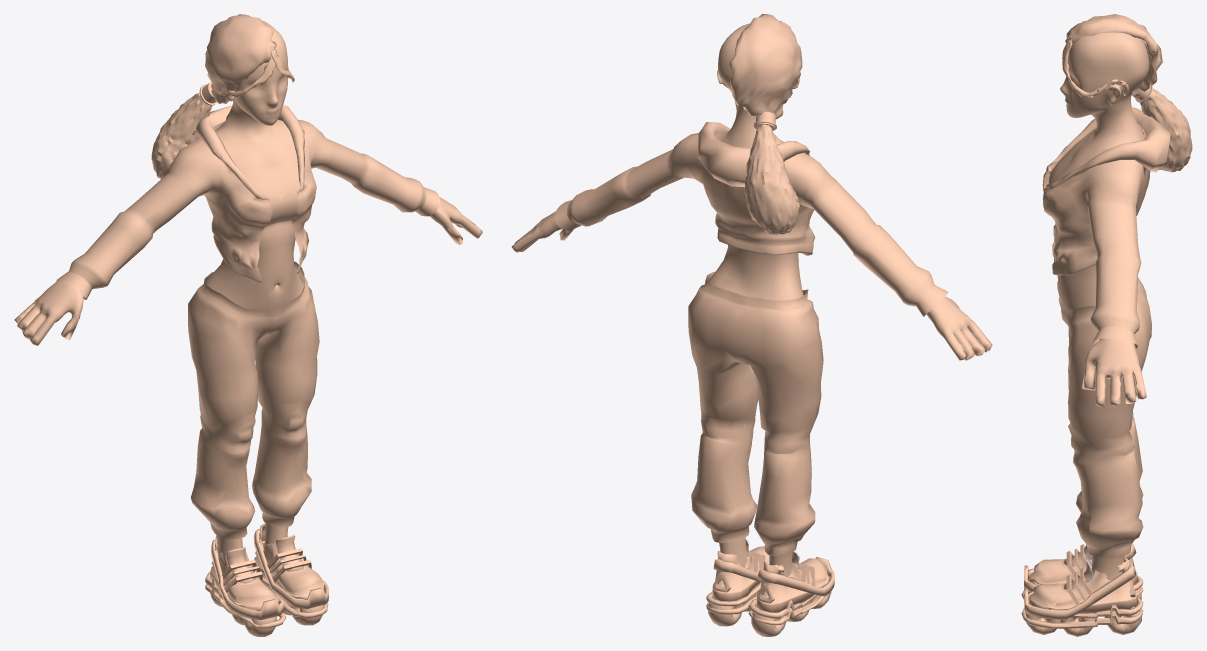
The model's file is JSRFTestFig.fbx.
The picture shows the model from 3 angles, left to right: view 1: azimuth 30°, elevation 25°; view 2: azimuth 150°, elevation 25°; view 3: azimuth 270°, elevation 25°; orthographic projection. The views are drawn at different scales.
Visible parts, largest first — view 1: Model.008; view 2: Model.008; view 3: Model.008.
Boxes of the visible parts, x1=… form: Model.008: x1=14, y1=14, x2=482, y2=636; Model.008: x1=511, y1=14, x2=992, y2=636; Model.008: x1=1021, y1=14, x2=1192, y2=636.
Bounding box in the file's own units: 945 × 1183 × 303.
